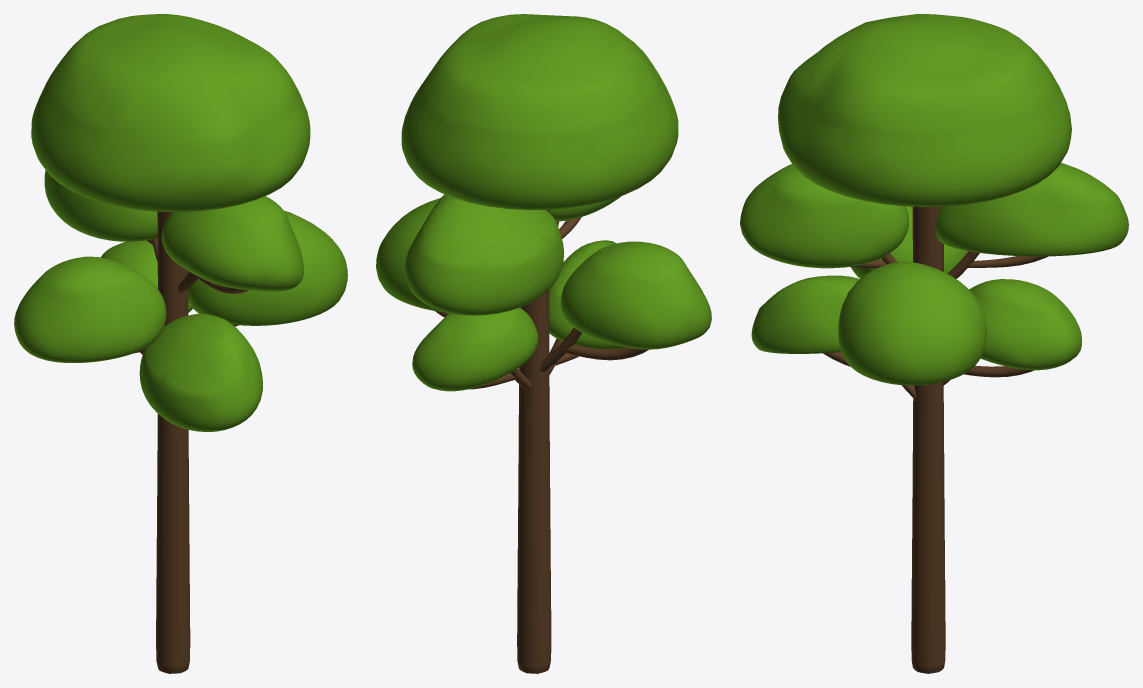
File: arv1.fbx
3 views of the same model, side by side, from view 1: azimuth 30°, elevation 25°; view 2: azimuth 150°, elevation 25°; view 3: azimuth 270°, elevation 25° (orthographic).
Visible parts, largest first — view 1: Icosphere.006, Cylinder.015; view 2: Icosphere.006, Cylinder.015; view 3: Icosphere.006, Cylinder.015.
Part boxes in pixels (x1,y1,x2,y2): Icosphere.006: (14, 14, 347, 431); Cylinder.015: (133, 211, 248, 673); Icosphere.006: (376, 14, 711, 391); Cylinder.015: (435, 209, 648, 673); Icosphere.006: (740, 14, 1128, 385); Cylinder.015: (823, 206, 1048, 673).
Bounding box in the file's own units: 3192 × 6069 × 3381.
